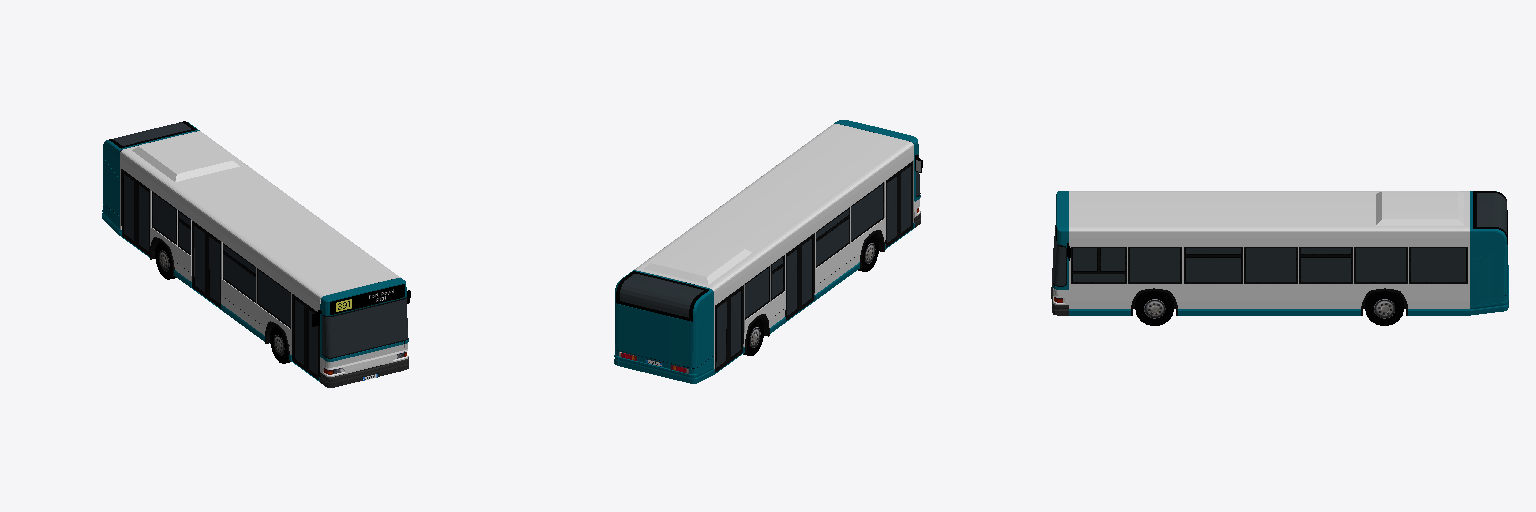
The picture shows the model from 3 angles: view 1: azimuth 30°, elevation 25°; view 2: azimuth 150°, elevation 25°; view 3: azimuth 270°, elevation 25°; orthographic projection.
Visible parts, largest first — view 1: sidesBus_Plane.003, frontBus_Plane.002, frontGlass_Plane, backBus_Plane.005, numberOrName_Plane.006, tires_Plane.011; view 2: sidesBus_Plane.003, backBus_Plane.005, frontBus_Plane.002, tires_Plane.011; view 3: sidesBus_Plane.003, backBus_Plane.005, tires_Plane.011, frontBus_Plane.002, textureWheels_Plane.010, frontGlass_Plane.
Part boxes in pixels (bbox=[...]): sidesBus_Plane.003: bbox=[120, 131, 400, 381]; frontBus_Plane.002: bbox=[320, 278, 408, 387]; frontGlass_Plane: bbox=[322, 298, 407, 357]; backBus_Plane.005: bbox=[102, 121, 199, 235]; numberOrName_Plane.006: bbox=[335, 286, 399, 312]; tires_Plane.011: bbox=[155, 242, 290, 363]; sidesBus_Plane.003: bbox=[634, 124, 914, 374]; backBus_Plane.005: bbox=[614, 270, 713, 383]; frontBus_Plane.002: bbox=[834, 120, 920, 227]; tires_Plane.011: bbox=[743, 235, 878, 355]; sidesBus_Plane.003: bbox=[1069, 191, 1469, 315]; backBus_Plane.005: bbox=[1470, 191, 1508, 315]; tires_Plane.011: bbox=[1135, 291, 1403, 325]; frontBus_Plane.002: bbox=[1052, 191, 1068, 315]; textureWheels_Plane.010: bbox=[1144, 299, 1394, 318]; frontGlass_Plane: bbox=[1053, 225, 1065, 285].
Size of the model in its own units: 303 by 302 by 1219.
Materials: 14 (1 with a texture image).